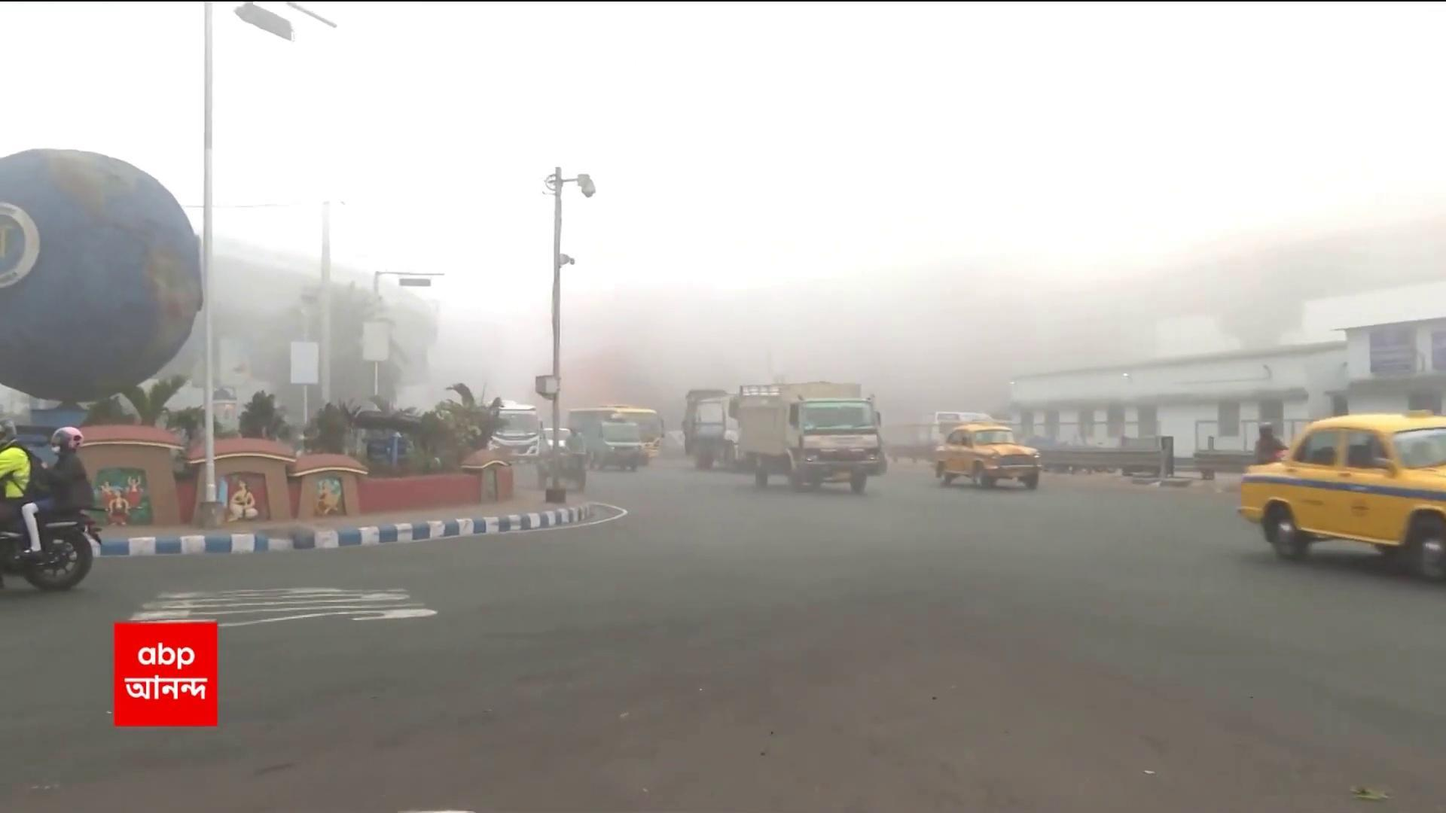Car: (1228, 405, 1446, 589), (921, 424, 1053, 496)
Truck: (723, 379, 889, 502)
